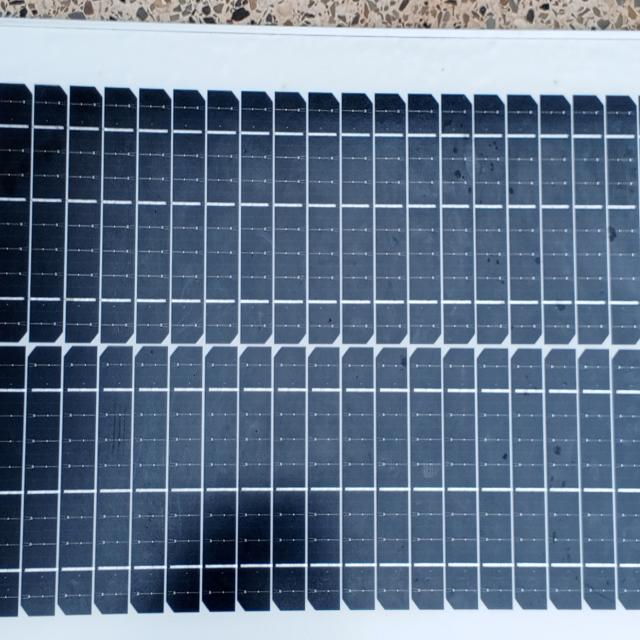Clean: (3, 34, 640, 637)
